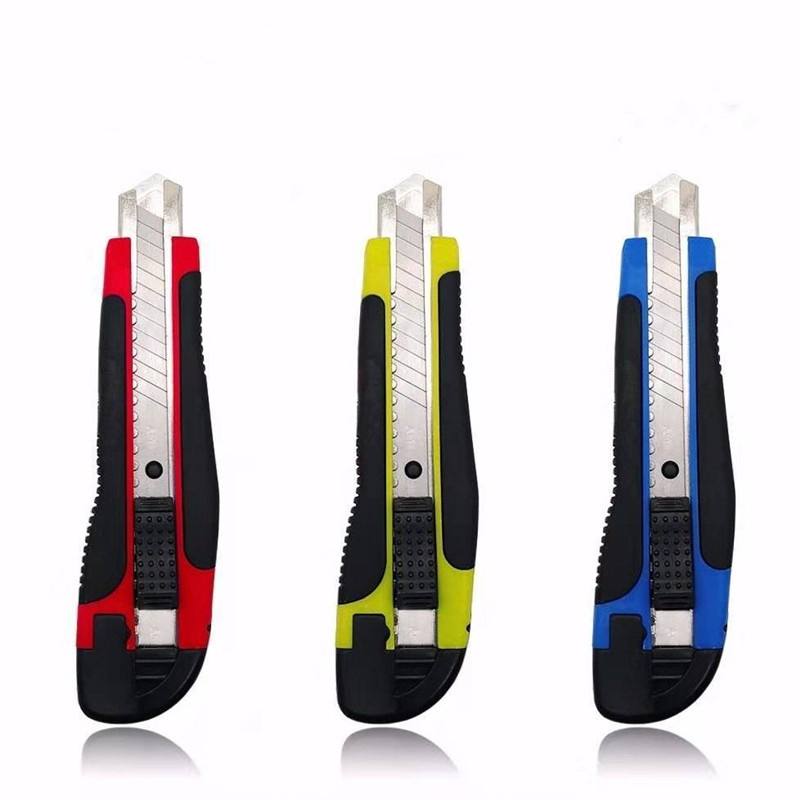cutter: (72, 170, 221, 724), (334, 173, 480, 725), (593, 171, 737, 721)
